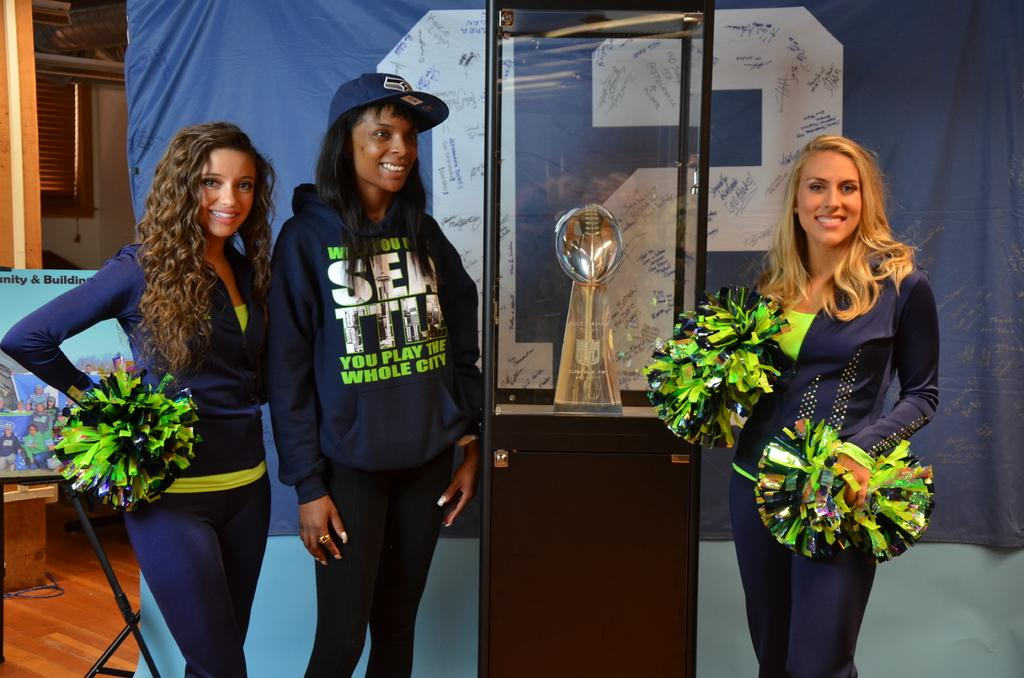Hat: (326, 70, 450, 133)
